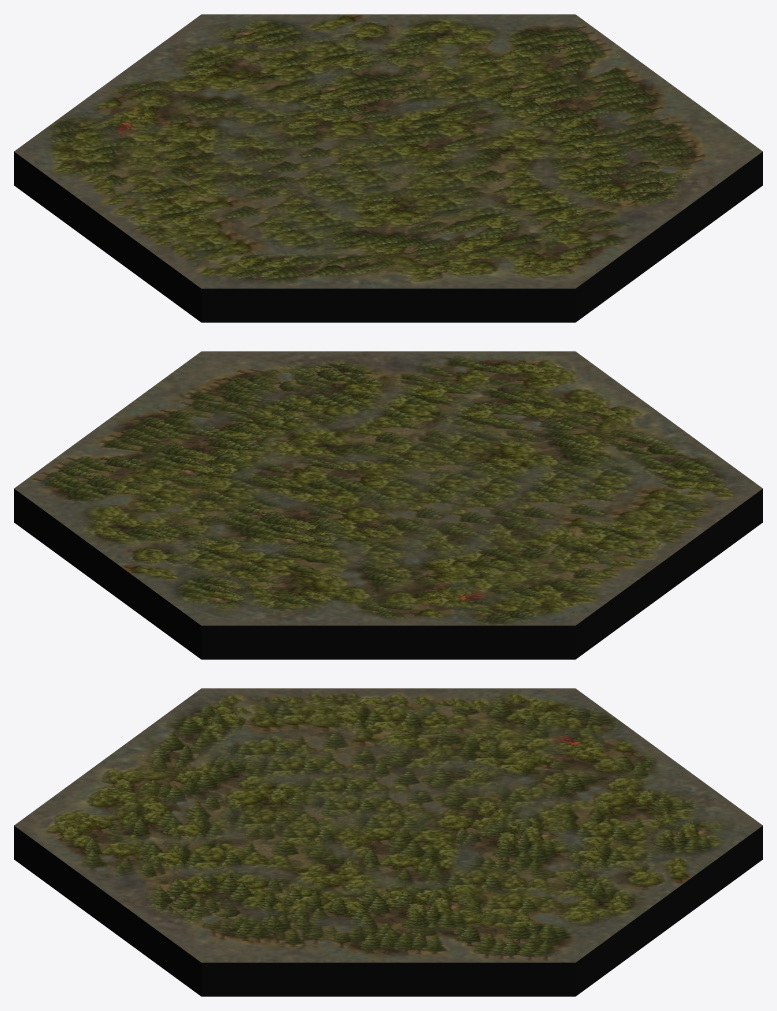
The model's file is flat_heavy_forest.glb.
The picture shows the model from 3 angles, top to bottom: view 1: azimuth 30°, elevation 25°; view 2: azimuth 150°, elevation 25°; view 3: azimuth 270°, elevation 25°; orthographic projection.
Parts seen in each view (by area): view 1: Cylinder; view 2: Cylinder; view 3: Cylinder.
Part boxes in pixels (left/top/right/bottom): Cylinder: left=14, top=14, right=762, bottom=322; Cylinder: left=14, top=351, right=762, bottom=659; Cylinder: left=14, top=688, right=762, bottom=996.
Size of the model in its own units: 1.73 by 0.1 by 2.
Materials: 2 (1 with a texture image).
